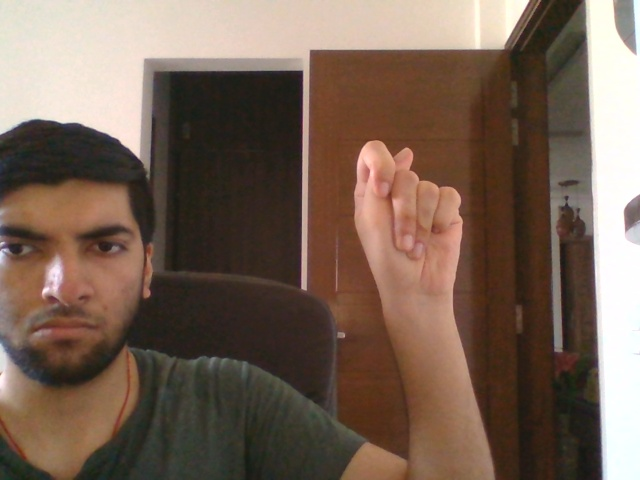LetterT: (350, 137, 465, 300)
